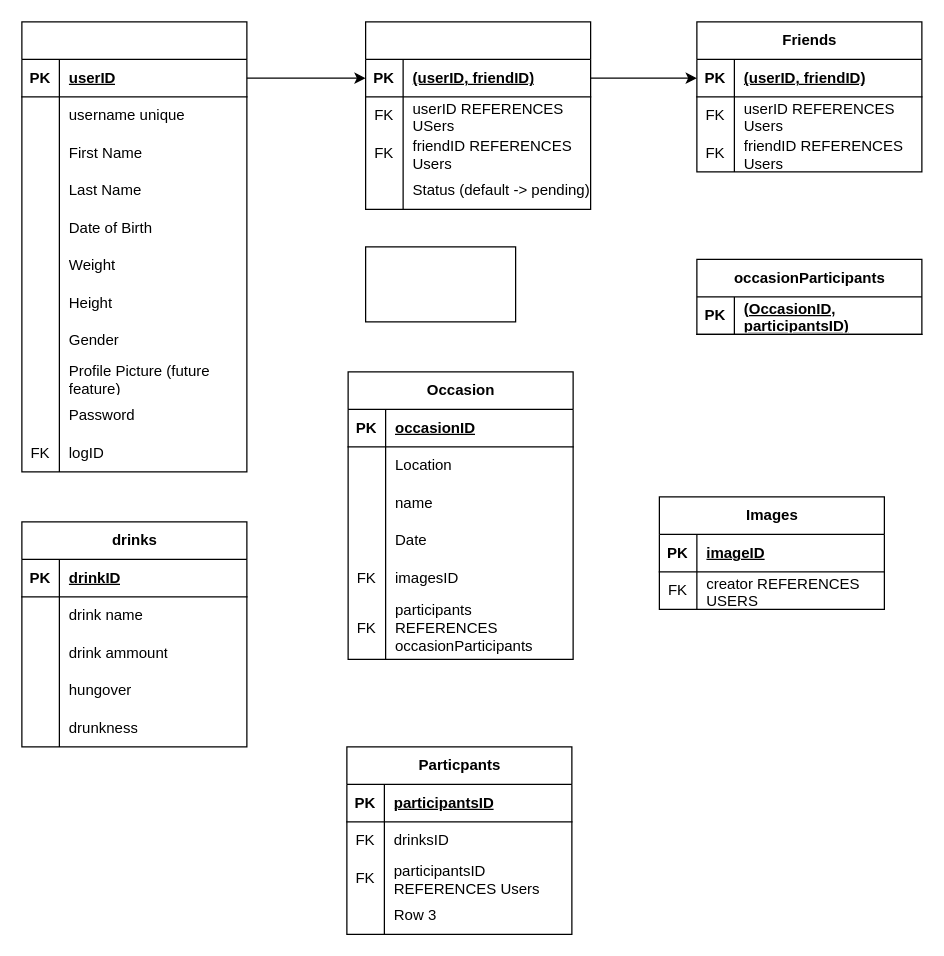
This 944x956 diagram has some shape labels left out. Here are the shapes that lost their labels. From the top down, the box of each, then its label:
(364, 21, 591, 209): friendrequest
(21, 21, 247, 472): Users
(364, 246, 516, 322): TRIGGER WHEN STATUS BECOMES "ACCEPTED"
